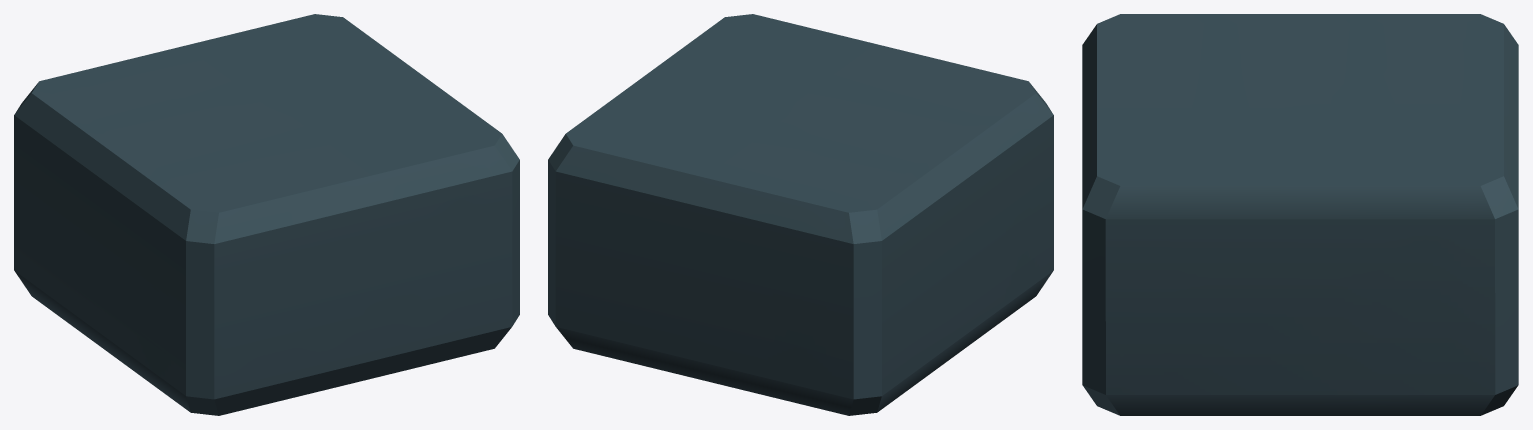
File: pillar_medium_segment_short.fbx
3 views of the same model, side by side, from view 1: azimuth 30°, elevation 25°; view 2: azimuth 150°, elevation 25°; view 3: azimuth 270°, elevation 25° (orthographic). The views are drawn at different scales.
Visible parts, largest first — view 1: pillar_medium_segment_short; view 2: pillar_medium_segment_short; view 3: pillar_medium_segment_short.
Boxes of the visible parts, bbox=[...] form: pillar_medium_segment_short: bbox=[14, 14, 519, 415]; pillar_medium_segment_short: bbox=[548, 14, 1053, 415]; pillar_medium_segment_short: bbox=[1082, 14, 1518, 415].
Size of the model in its own units: 97.43 by 56.68 by 97.4.
